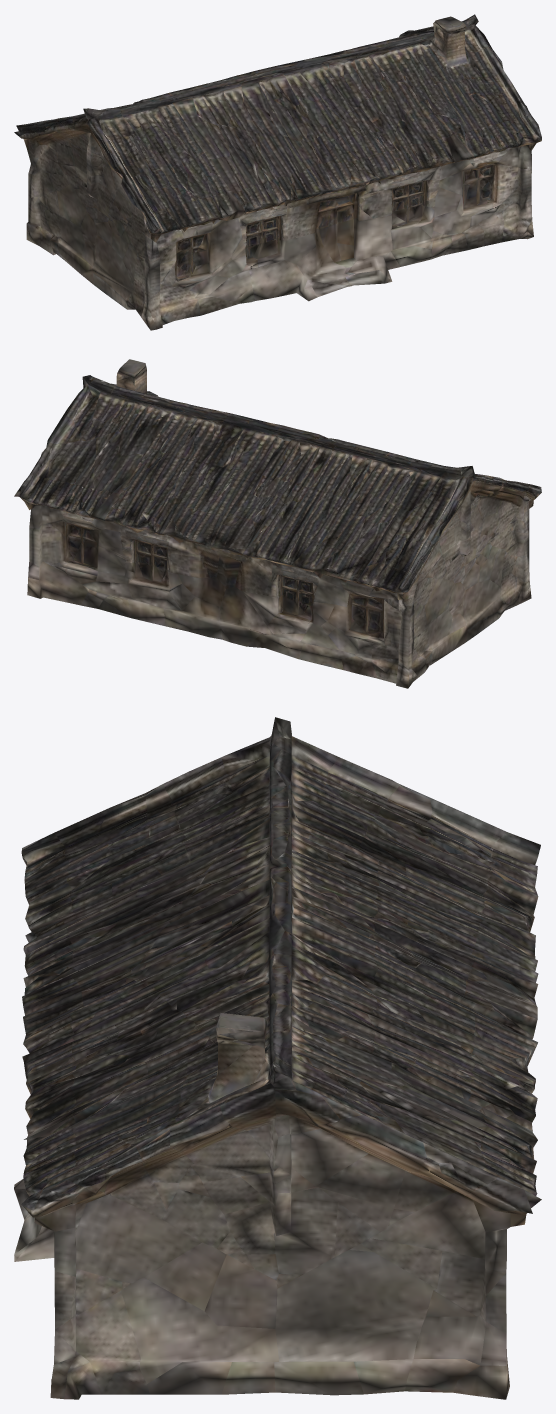
File: bq_house_stone.lod1.glb
3 renders of one model, top to bottom at view 1: azimuth 30°, elevation 25°; view 2: azimuth 150°, elevation 25°; view 3: azimuth 270°, elevation 25°, orthographic. The views are drawn at different scales.
Bounding box in the file's own units: 1.9 × 0.8575 × 1.18.
Materials: 1 (1 with a texture image).
